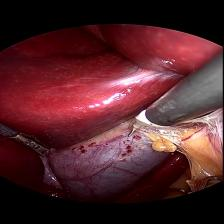Grasper: (5, 129, 60, 160)
Hook: (114, 104, 175, 140)
